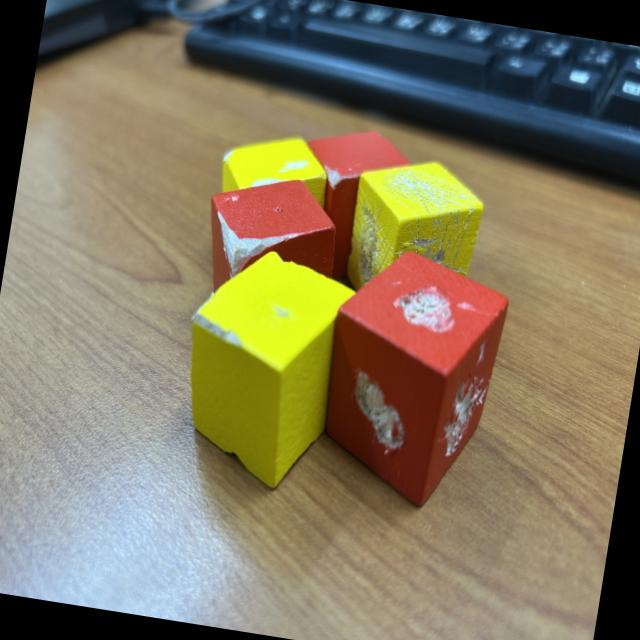broken: (310, 240, 514, 518), (166, 239, 364, 500), (190, 166, 348, 357), (340, 149, 490, 319), (286, 120, 416, 289), (205, 126, 338, 284)
